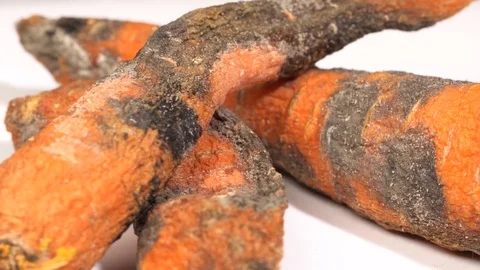rotten carrot: (11, 9, 421, 244)
